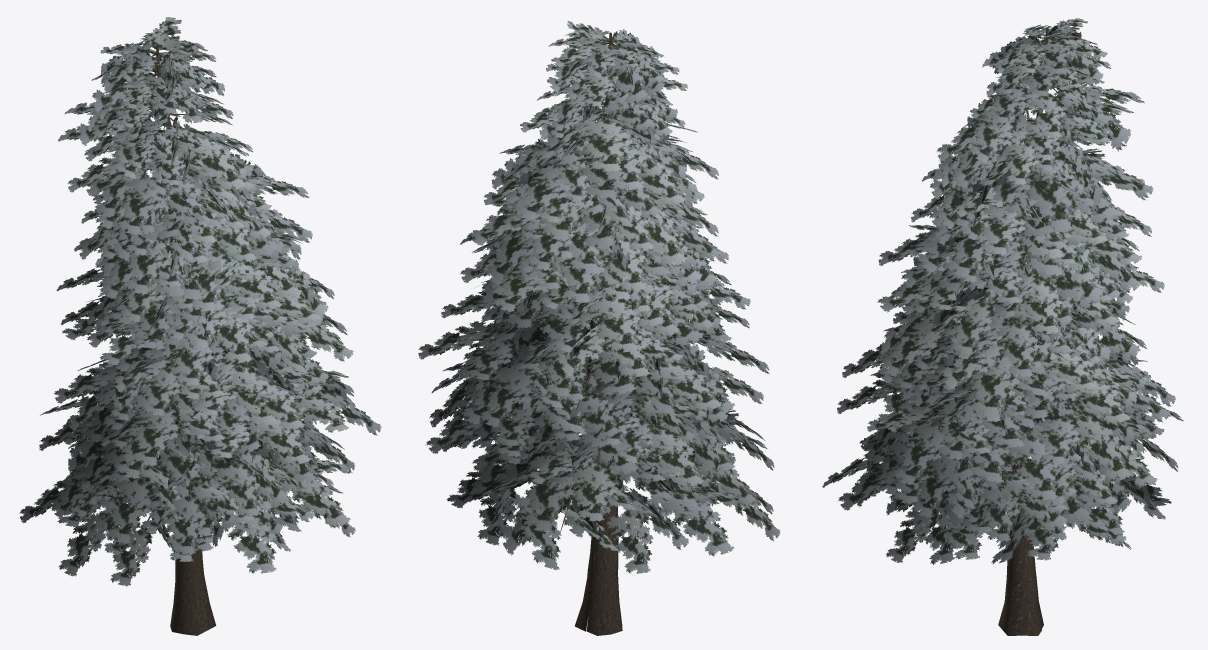
The model's file is tree_v6_pine_healthy_winter.glb.
3 renders of one model, left to right at view 1: azimuth 30°, elevation 25°; view 2: azimuth 150°, elevation 25°; view 3: azimuth 270°, elevation 25°, orthographic. The views are drawn at different scales.
Parts seen in each view (by area): view 1: tree_v6_pine_healthy_winter_LOD0; view 2: tree_v6_pine_healthy_winter_LOD0; view 3: tree_v6_pine_healthy_winter_LOD0.
Boxes of the visible parts, <box> form: tree_v6_pine_healthy_winter_LOD0: <box>19,17,381,635</box>; tree_v6_pine_healthy_winter_LOD0: <box>418,21,780,635</box>; tree_v6_pine_healthy_winter_LOD0: <box>822,18,1183,635</box>.
Size of what is drawn, in the model's own units: 7.92 by 14.46 by 8.23.
Materials: 1 (1 with a texture image).
